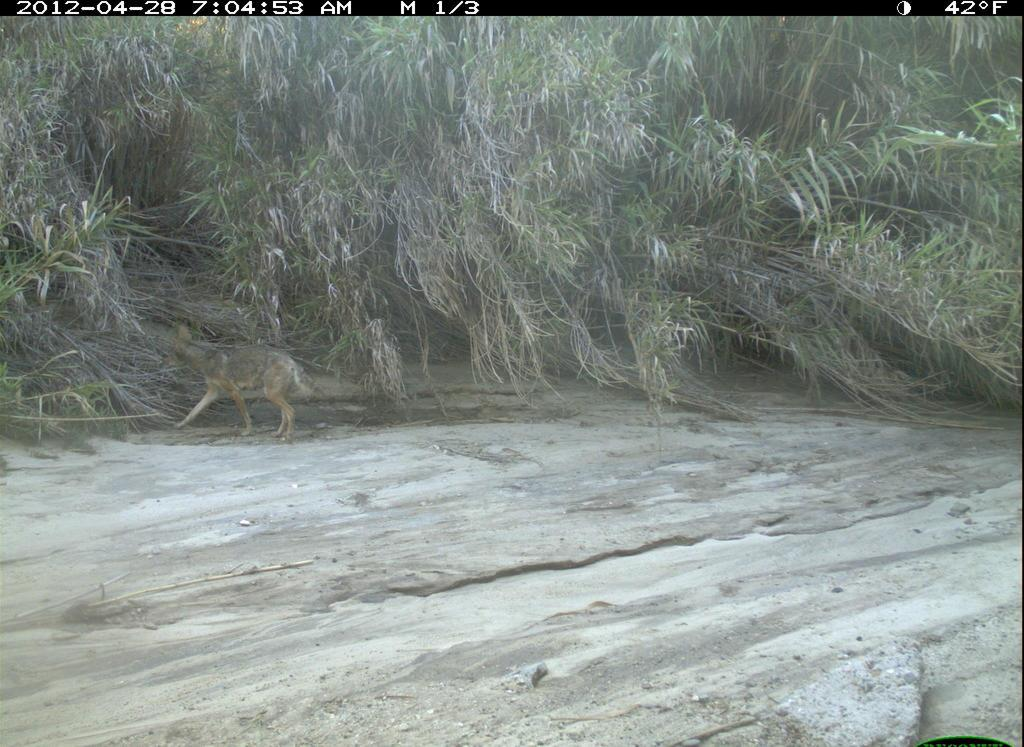coyote: (157, 323, 326, 449)
